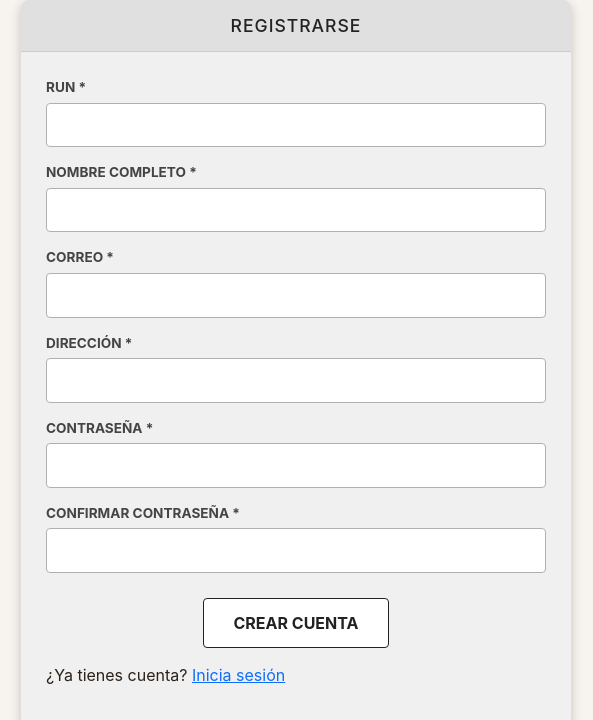
Test: Registro e inicio de sesión › rechaza un correo repetido
The width and height of the screenshot is (593, 720).
Type "12345678-9" into the field labelled "RUN *". click: (296, 125)
box: [46,102,546,147]
Type "Ana Pérez" into the field labelled "NOMBRE COMPLETO *". click: (296, 210)
box: [46,188,546,232]
Type "ana@gmail.com" into the field labelled "CORREO *". click: (296, 295)
box: [46,273,546,318]
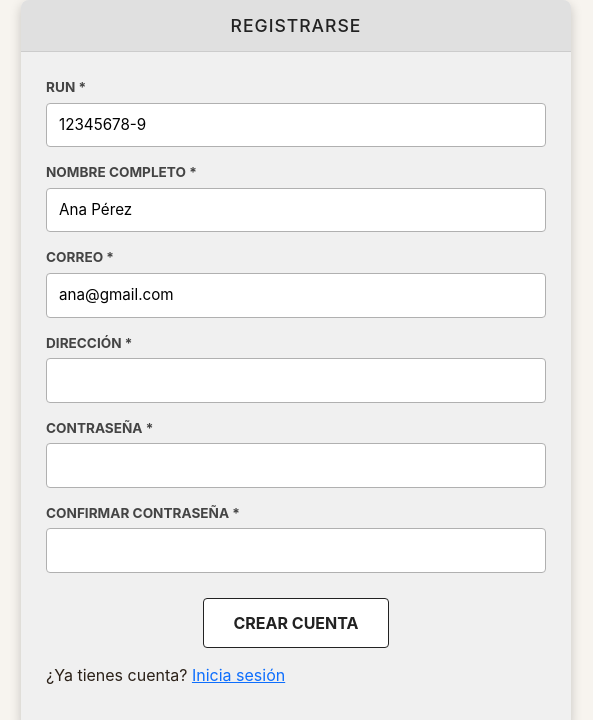
Type "Viña del Mar" into the field labelled "DIRECCIÓN *". click: (296, 380)
box: [46,358,546,403]
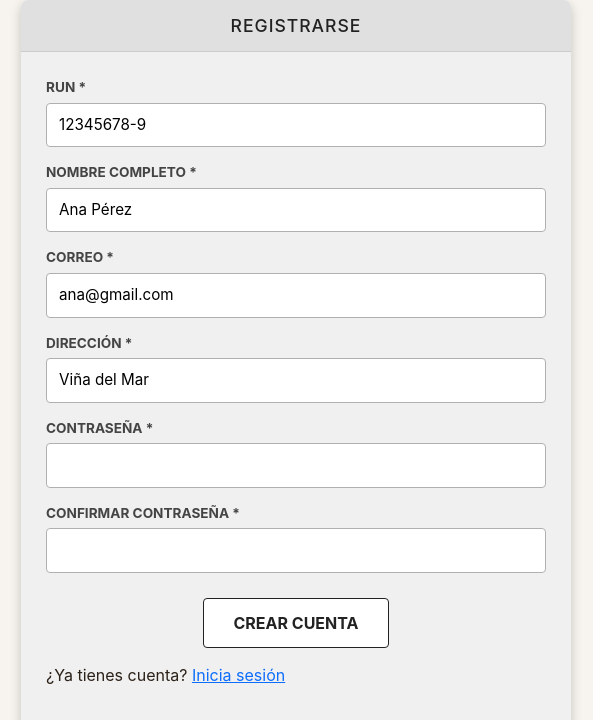
Type "ClavePrueba123" into the password field labelled "CONTRASEÑA *". click: (296, 466)
box: [46,443,546,488]
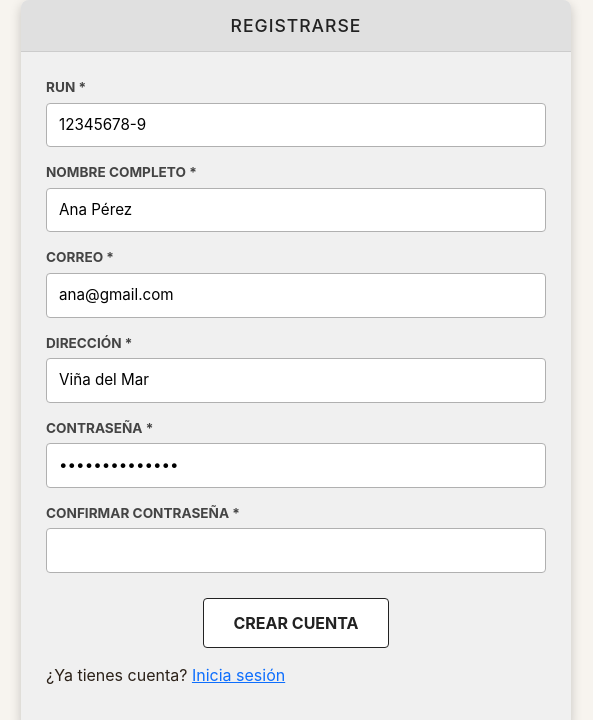
Type "ClavePrueba123" into the password field labelled "CONFIRMAR CONTRASEÑA *". click: (296, 551)
box: [46,528,546,573]
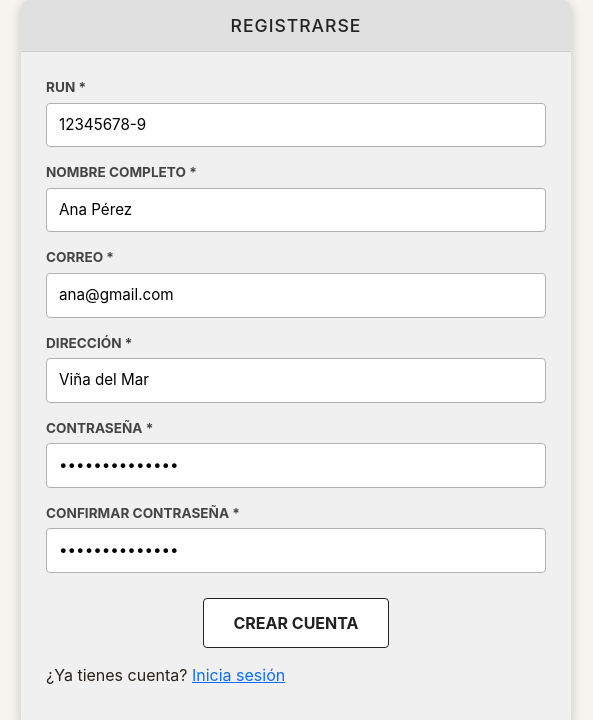
Replace the text in the field labelled "RUN *" with "98765432-1". click: (296, 125)
box: [46,102,546,147]
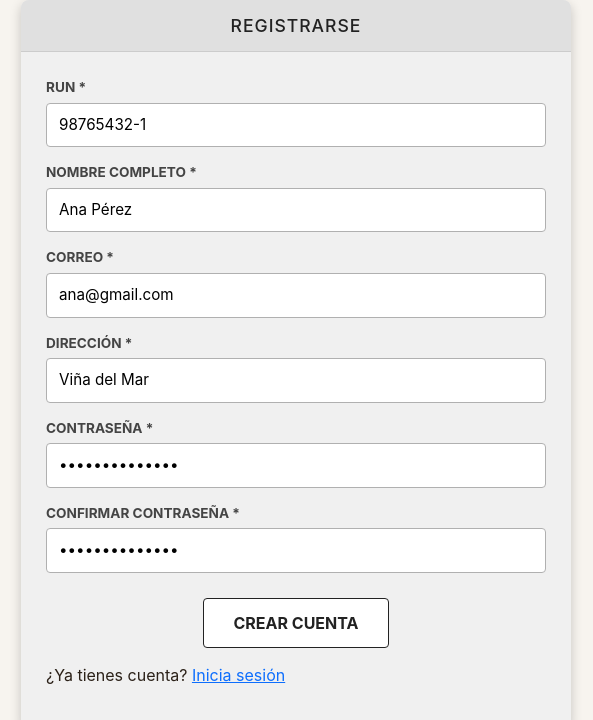
Click the button "CREAR CUENTA". click: (296, 623)
box: [202,598,390,648]
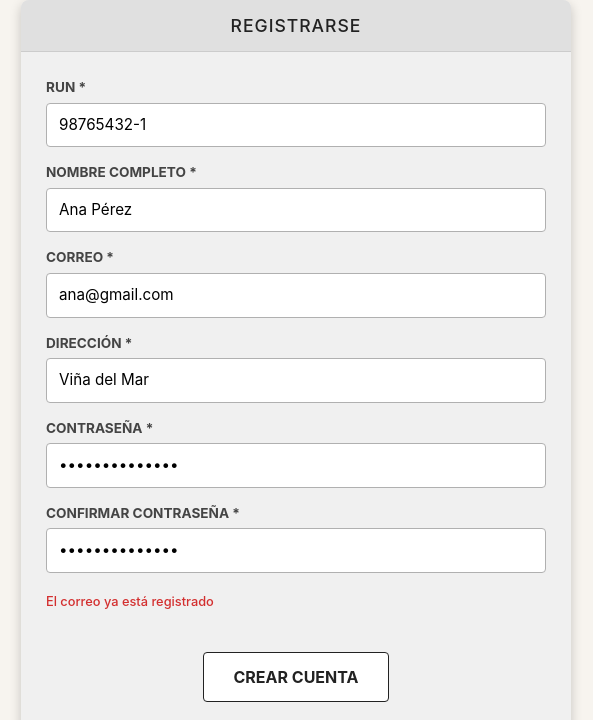
Expected: the message reads "El correo ya está registrado", [46,594,214,609]
